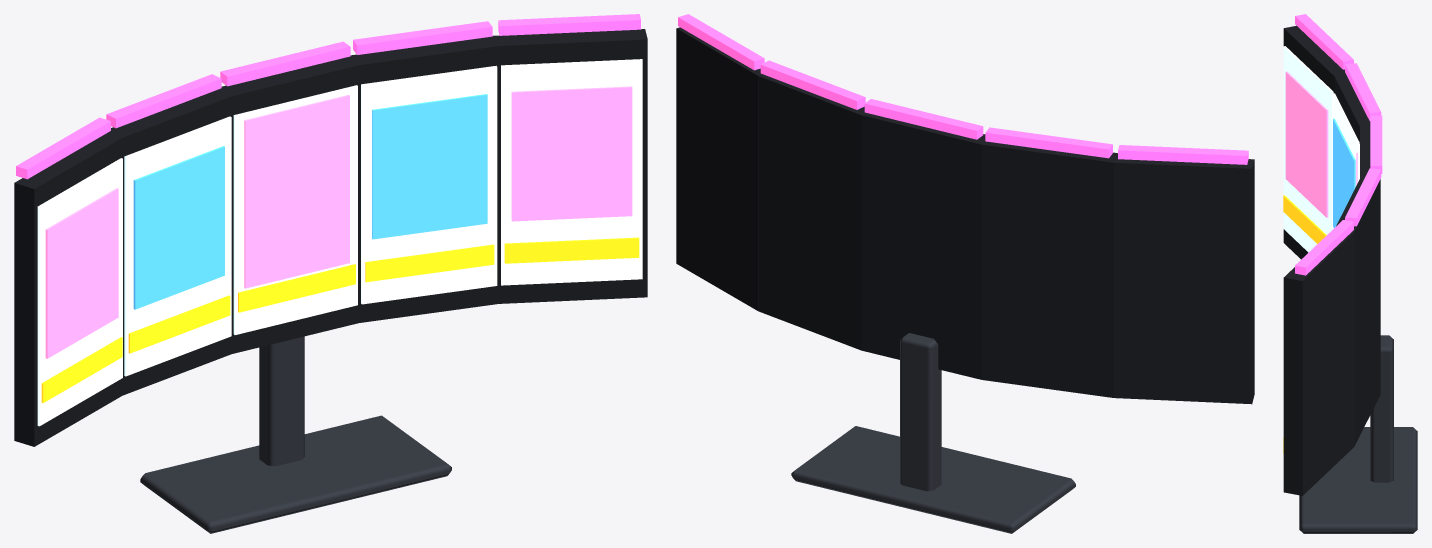
The model's file is station_processing_ausstattung_2_2.glb.
The picture shows the model from 3 angles, left to right: view 1: azimuth 30°, elevation 25°; view 2: azimuth 150°, elevation 25°; view 3: azimuth 270°, elevation 25°; orthographic projection. The views are drawn at different scales.
Parts seen in each view (by area): view 1: station_processing_ausstattung_2_2; view 2: station_processing_ausstattung_2_2; view 3: station_processing_ausstattung_2_2.
Boxes of the visible parts, x1,y1,x2,y2 form: station_processing_ausstattung_2_2: (14, 14, 647, 533); station_processing_ausstattung_2_2: (676, 14, 1254, 533); station_processing_ausstattung_2_2: (1283, 14, 1417, 533).
Bounding box in the file's own units: 1.02 × 0.6425 × 0.227.
